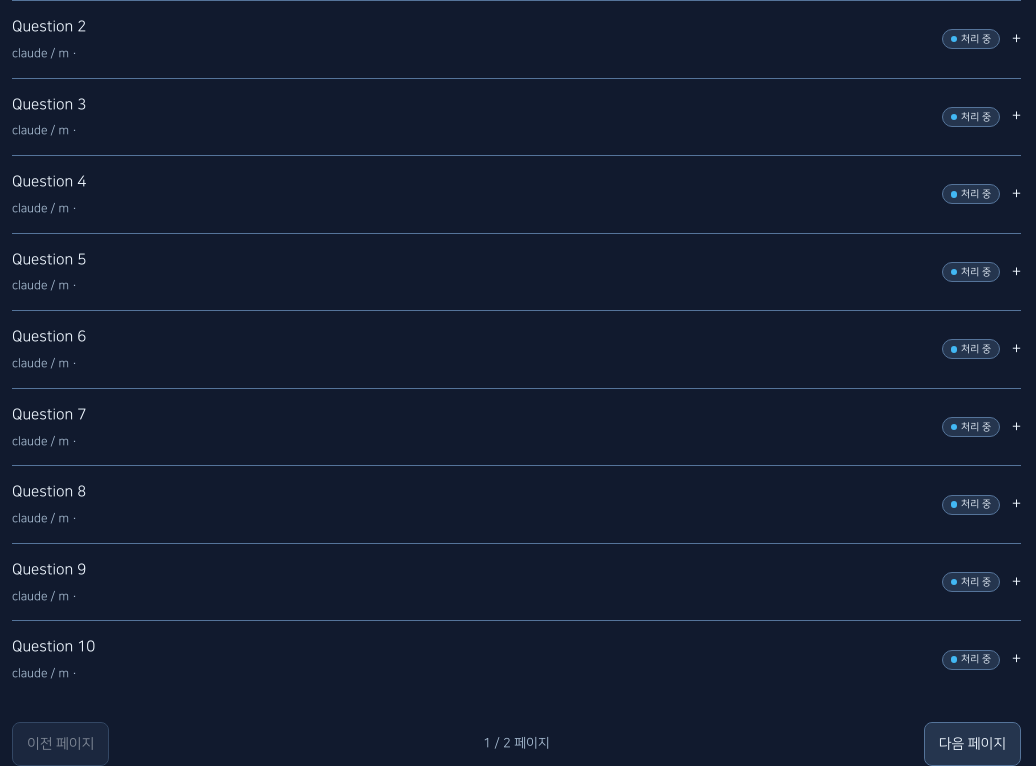
HistoryPage pagination and search › requests ten records from offset zero and advances by ten
(page scrolled)
Expected: the button "이전 페이지" is disabled, x1=12 y1=722 x2=109 y2=765
Click the button "다음 페이지" at [972, 744], box x1=924 y1=722 x2=1021 y2=765
(page scrolled)
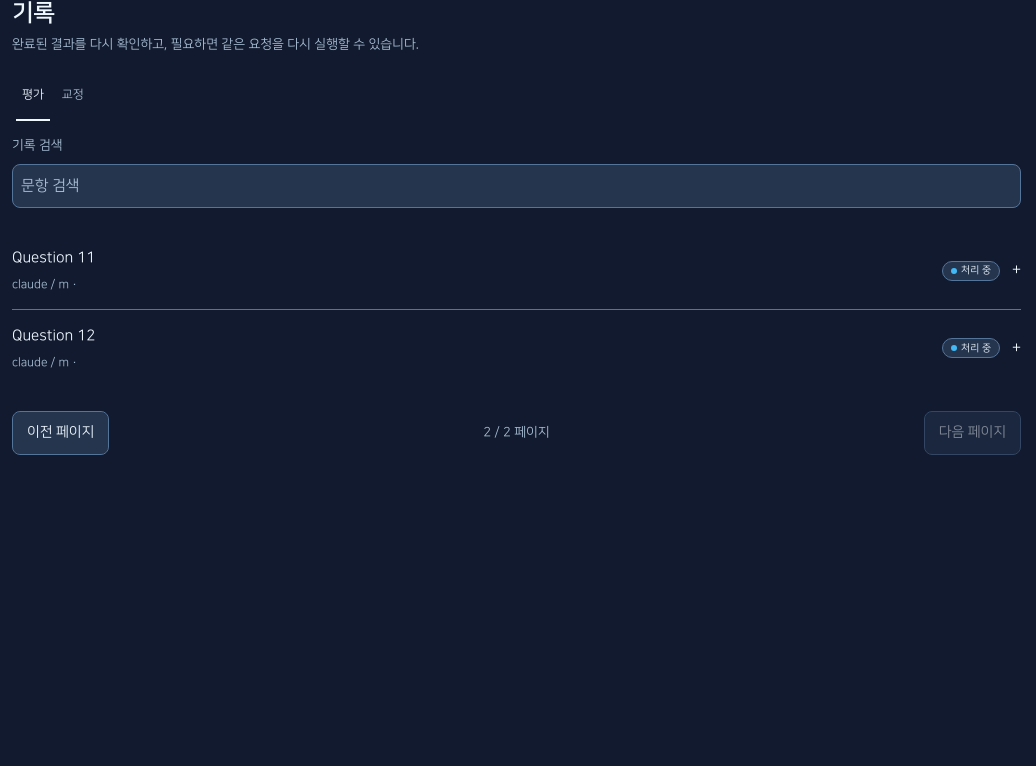
Expected: the text "Question 11" is shown, x1=12 y1=250 x2=95 y2=266
Expected: the button "다음 페이지" is disabled, x1=924 y1=411 x2=1021 y2=455
